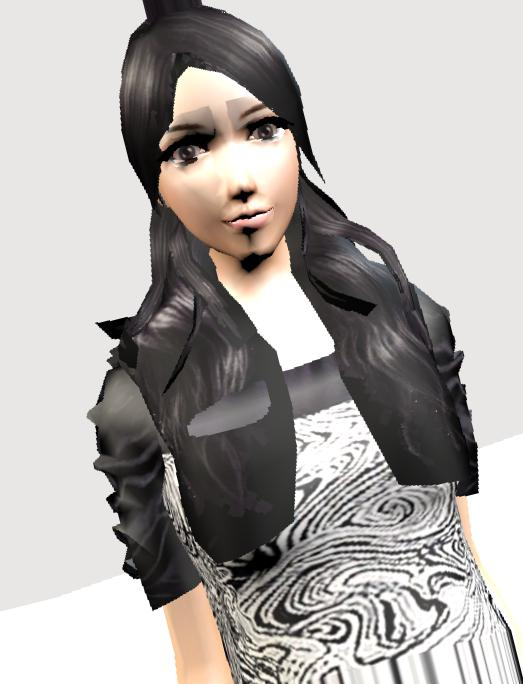clip: (183, 398, 263, 437)
